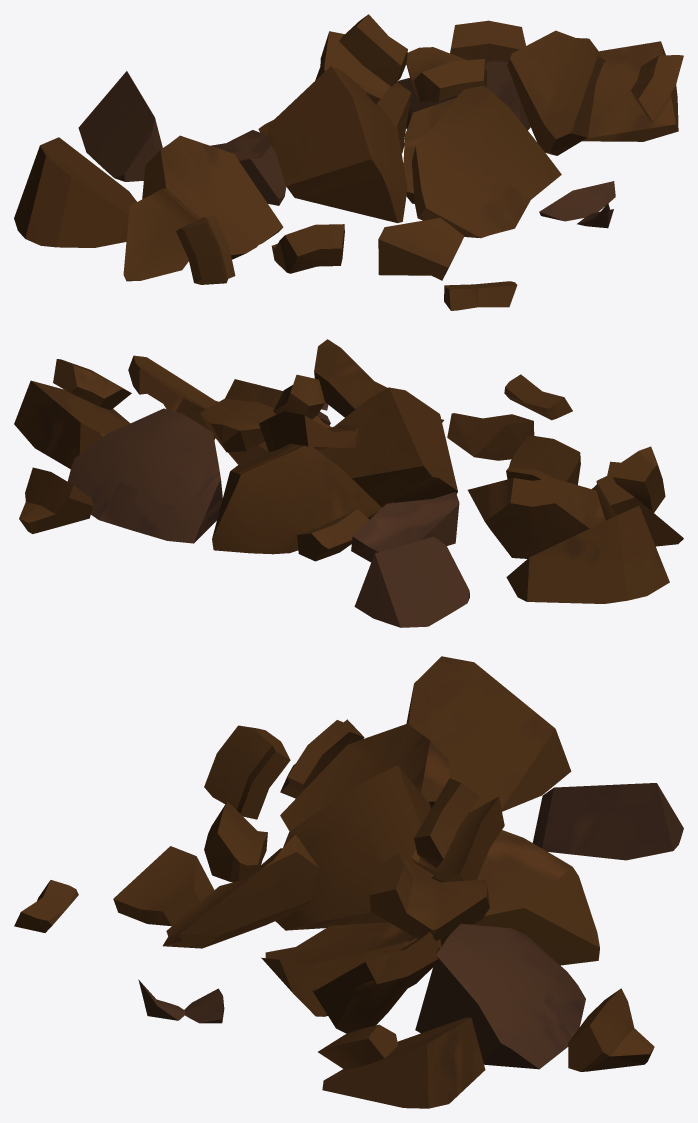
File: Vase_Rubble_Medium.gltf
The picture shows the model from 3 angles, top to bottom: view 1: azimuth 30°, elevation 25°; view 2: azimuth 150°, elevation 25°; view 3: azimuth 270°, elevation 25°; orthographic projection. The views are drawn at different scales.
Visible parts, largest first — view 1: Vase_Rubble_Medium; view 2: Vase_Rubble_Medium; view 3: Vase_Rubble_Medium.
Part boxes in pixels (x1,y1,x2,y2): Vase_Rubble_Medium: (14,14,683,310); Vase_Rubble_Medium: (14,339,683,627); Vase_Rubble_Medium: (14,656,683,1108).
Bounding box in the file's own units: 0.7969 × 0.1746 × 0.5984.
1 material, 1 textured.
